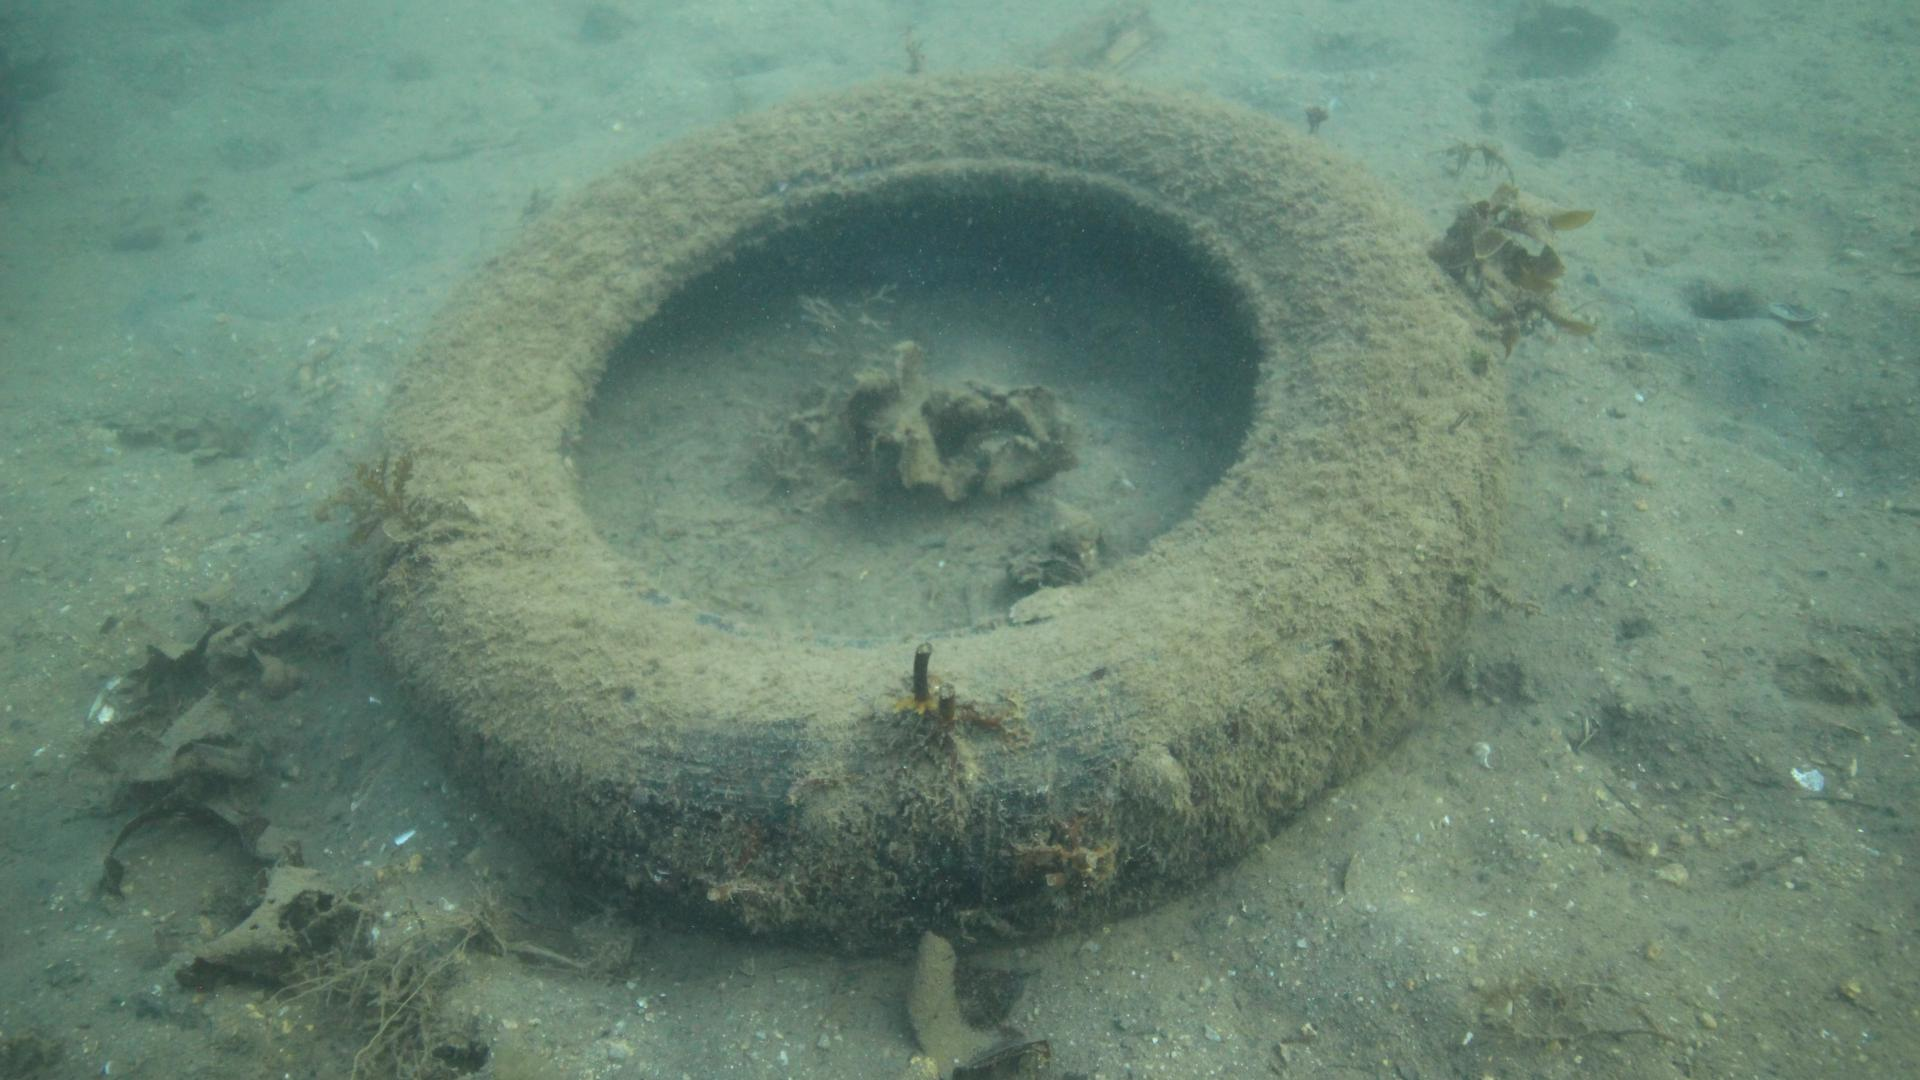tire: (355, 67, 1513, 960)
